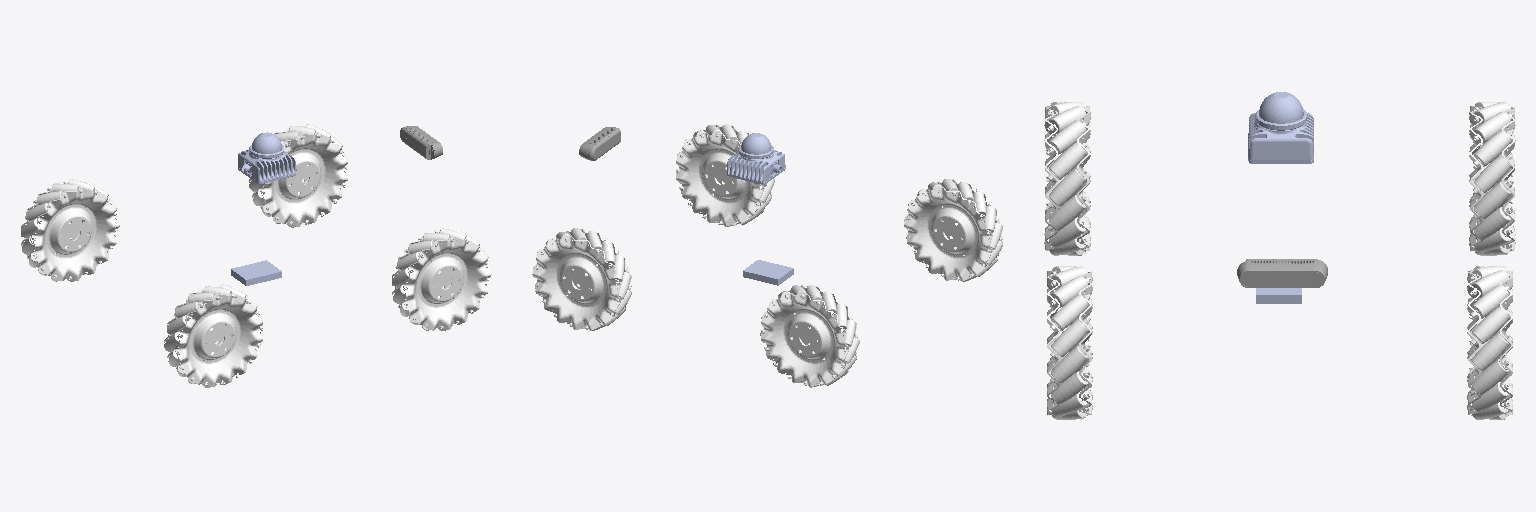
URDF robot description (auto_robot):
<?xml version="1.0" encoding="utf-8"?>
<!-- This URDF was automatically created by SolidWorks to URDF Exporter! Originally created by [author] ([email redacted]) 
     Commit Version: 1.6.0-4-g7f85cfe  Build Version: 1.6.7995.38578
     For more information, please see http://wiki.ros.org/sw_urdf_exporter -->
<robot
  name="auto_robot">
  <link
    name="base_link">
    <inertial>
      <origin
        xyz="2.8395E-05 0.00044016 0.070761"
        rpy="0 0 0" />
      <mass
        value="3.4984" />
      <inertia
        ixx="0.020694"
        ixy="2.8459E-05"
        ixz="-8.6816E-11"
        iyy="0.033952"
        iyz="5.3228E-08"
        izz="0.053792" />
    </inertial>
    <visual>
      <origin
        xyz="0 0 0"
        rpy="0 0 0" />
      <geometry>
        <mesh
          filename="package://auto_robot/meshes/base_link.STL" />
      </geometry>
      <material
        name="">
        <color
          rgba="0.79216 0.81961 0.93333 1" />
      </material>
    </visual>
    <collision>
      <origin
        xyz="0 0 0"
        rpy="0 0 0" />
      <geometry>
        <mesh
          filename="package://auto_robot/meshes/base_link.STL" />
      </geometry>
    </collision>
  </link>
  <link
    name="lidar_link">
    <inertial>
      <origin
        xyz="-0.0001996 -6.3239E-06 -0.038065"
        rpy="0 0 0" />
      <mass
        value="0.14189" />
      <inertia
        ixx="4.1798E-05"
        ixy="-5.6088E-09"
        ixz="3.0531E-07"
        iyy="4.5077E-05"
        iyz="-4.385E-10"
        izz="6.88E-05" />
    </inertial>
    <visual>
      <origin
        xyz="0 0 0"
        rpy="0 0 0" />
      <geometry>
        <mesh
          filename="package://auto_robot/meshes/lidar_link.STL" />
      </geometry>
      <material
        name="">
        <color
          rgba="0.79216 0.81961 0.93333 1" />
      </material>
    </visual>
    <collision>
      <origin
        xyz="0 0 0"
        rpy="0 0 0" />
      <geometry>
        <mesh
          filename="package://auto_robot/meshes/lidar_link.STL" />
      </geometry>
    </collision>
  </link>
  <joint
    name="lidar_joint"
    type="fixed">
    <origin
      xyz="0.018849 0.0022859 0.2251"
      rpy="0 0 0" />
    <parent
      link="base_link" />
    <child
      link="lidar_link" />
    <axis
      xyz="0 0 0" />
  </joint>
  <link
    name="imu_link">
    <inertial>
      <origin
        xyz="3.4694E-18 1.0408E-17 -0.005"
        rpy="0 0 0" />
      <mass
        value="0.027" />
      <inertia
        ixx="4.7813E-06"
        ixy="-1.6047E-21"
        ixz="5.294E-23"
        iyy="8.325E-06"
        iyz="2.412E-23"
        izz="1.2656E-05" />
    </inertial>
    <visual>
      <origin
        xyz="0 0 0"
        rpy="0 0 0" />
      <geometry>
        <mesh
          filename="package://auto_robot/meshes/imu_link.STL" />
      </geometry>
      <material
        name="">
        <color
          rgba="0.79216 0.81961 0.93333 1" />
      </material>
    </visual>
    <collision>
      <origin
        xyz="0 0 0"
        rpy="0 0 0" />
      <geometry>
        <mesh
          filename="package://auto_robot/meshes/imu_link.STL" />
      </geometry>
    </collision>
  </link>
  <joint
    name="imu_joint"
    type="fixed">
    <origin
      xyz="0 0 0.013"
      rpy="0 0 0" />
    <parent
      link="base_link" />
    <child
      link="imu_link" />
    <axis
      xyz="0 0 0" />
  </joint>
  <link
    name="camera_link">
    <inertial>
      <origin
        xyz="-0.013293 0.0014082 -2.3277E-05"
        rpy="0 0 0" />
      <mass
        value="0.036474" />
      <inertia
        ixx="2.3404E-05"
        ixy="2.1067E-07"
        ixz="1.0154E-08"
        iyy="3.5065E-06"
        iyz="1.7436E-09"
        izz="2.3613E-05" />
    </inertial>
    <visual>
      <origin
        xyz="0 0 0"
        rpy="0 0 0" />
      <geometry>
        <mesh
          filename="package://auto_robot/meshes/camera_link.STL" />
      </geometry>
      <material
        name="">
        <color
          rgba="0.70196 0.70196 0.70196 1" />
      </material>
    </visual>
    <collision>
      <origin
        xyz="0 0 0"
        rpy="0 0 0" />
      <geometry>
        <mesh
          filename="package://auto_robot/meshes/camera_link.STL" />
      </geometry>
    </collision>
  </link>
  <joint
    name="camera_joint"
    type="fixed">
    <origin
      xyz="0.29146 0.0033941 0.15158"
      rpy="0 0 0" />
    <parent
      link="base_link" />
    <child
      link="camera_link" />
    <axis
      xyz="0 0 0" />
  </joint>
  <link
    name="fl_wheel_link">
    <inertial>
      <origin
        xyz="-0.0013062 -0.014419 3.2463E-05"
        rpy="0 0 0" />
      <mass
        value="0.21481" />
      <inertia
        ixx="0.00010361"
        ixy="4.5758E-08"
        ixz="-3.0352E-07"
        iyy="0.00018482"
        iyz="1.2751E-07"
        izz="0.00010389" />
    </inertial>
    <visual>
      <origin
        xyz="0 0 0"
        rpy="0 0 0" />
      <geometry>
        <mesh
          filename="package://auto_robot/meshes/fl_wheel_link.STL" />
      </geometry>
      <material
        name="">
        <color
          rgba="1 1 1 1" />
      </material>
    </visual>
    <collision>
      <origin
        xyz="0 0 0"
        rpy="0 0 0" />
      <geometry>
        <mesh
          filename="package://auto_robot/meshes/fl_wheel_link.STL" />
      </geometry>
    </collision>
  </link>
  <joint
    name="fl_wheel_joint"
    type="continuous">
    <origin
      xyz="0.1915 0.22265 0.03599"
      rpy="0 0 0" />
    <parent
      link="base_link" />
    <child
      link="fl_wheel_link" />
    <axis
      xyz="2.0172E-05 -1 0" />
  </joint>
  <link
    name="rl_wheel_link">
    <inertial>
      <origin
        xyz="0.0013104 -0.014182 4.4596E-05"
        rpy="0 0 0" />
      <mass
        value="0.21481" />
      <inertia
        ixx="0.0001036"
        ixy="4.7955E-08"
        ixz="2.9864E-07"
        iyy="0.00018482"
        iyz="-1.2671E-07"
        izz="0.0001039" />
    </inertial>
    <visual>
      <origin
        xyz="0 0 0"
        rpy="0 0 0" />
      <geometry>
        <mesh
          filename="package://auto_robot/meshes/rl_wheel_link.STL" />
      </geometry>
      <material
        name="">
        <color
          rgba="1 1 1 1" />
      </material>
    </visual>
    <collision>
      <origin
        xyz="0 0 0"
        rpy="0 0 0" />
      <geometry>
        <mesh
          filename="package://auto_robot/meshes/rl_wheel_link.STL" />
      </geometry>
    </collision>
  </link>
  <joint
    name="rl_wheel_joint"
    type="continuous">
    <origin
      xyz="-0.1915 0.22464 0.036"
      rpy="0 0 0" />
    <parent
      link="base_link" />
    <child
      link="rl_wheel_link" />
    <axis
      xyz="0 1 0" />
  </joint>
  <link
    name="fr_wheel_link">
    <inertial>
      <origin
        xyz="0.00044882 0.014419 0.0012271"
        rpy="0 0 0" />
      <mass
        value="0.21481" />
      <inertia
        ixx="0.00010364"
        ixy="1.3487E-07"
        ixz="-3.1642E-07"
        iyy="0.00018482"
        iyz="-4.4754E-09"
        izz="0.00010386" />
    </inertial>
    <visual>
      <origin
        xyz="0 0 0"
        rpy="0 0 0" />
      <geometry>
        <mesh
          filename="package://auto_robot/meshes/fr_wheel_link.STL" />
      </geometry>
      <material
        name="">
        <color
          rgba="1 1 1 1" />
      </material>
    </visual>
    <collision>
      <origin
        xyz="0 0 0"
        rpy="0 0 0" />
      <geometry>
        <mesh
          filename="package://auto_robot/meshes/fr_wheel_link.STL" />
      </geometry>
    </collision>
  </link>
  <joint
    name="fr_wheel_joint"
    type="continuous">
    <origin
      xyz="0.19151 -0.22065 0.036001"
      rpy="0 0 0" />
    <parent
      link="base_link" />
    <child
      link="fr_wheel_link" />
    <axis
      xyz="0 1 0" />
  </joint>
  <link
    name="rr_wheel_link">
    <inertial>
      <origin
        xyz="0 0 0"
        rpy="0 0 0" />
      <mass
        value="0" />
      <inertia
        ixx="0"
        ixy="0"
        ixz="0"
        iyy="0"
        iyz="0"
        izz="0" />
    </inertial>
    <visual>
      <origin
        xyz="0 0 0"
        rpy="0 0 0" />
      <geometry>
        <mesh
          filename="package://auto_robot/meshes/rr_wheel_link.STL" />
      </geometry>
      <material
        name="">
        <color
          rgba="1 1 1 1" />
      </material>
    </visual>
    <collision>
      <origin
        xyz="0 0 0"
        rpy="0 0 0" />
      <geometry>
        <mesh
          filename="package://auto_robot/meshes/rr_wheel_link.STL" />
      </geometry>
    </collision>
  </link>
  <joint
    name="rr_wheel_joint"
    type="continuous">
    <origin
      xyz="-0.1915 -0.22264 0.036"
      rpy="0 0 0" />
    <parent
      link="base_link" />
    <child
      link="rr_wheel_link" />
    <axis
      xyz="0 -1 0" />
  </joint>
</robot>

--- Facts derived from the render (not from the file) ---
3 views of the same robot in one strip: view 1: azimuth 30°, elevation 25°; view 2: azimuth 150°, elevation 25°; view 3: azimuth 270°, elevation 25° (orthographic).
Model auto_robot with 8 links and 7 joints (4 continuous, 3 fixed), rooted at base_link, posed every joint at zero.
Links seen in each view (by area): view 1: rl_wheel_link, fr_wheel_link, rr_wheel_link, fl_wheel_link, lidar_link, camera_link, imu_link; view 2: rl_wheel_link, rr_wheel_link, fl_wheel_link, fr_wheel_link, lidar_link, camera_link, imu_link; view 3: rl_wheel_link, rr_wheel_link, fl_wheel_link, fr_wheel_link, lidar_link, camera_link, imu_link.
Link boxes in pixels (x1,y1,x2,y2): rl_wheel_link: (21,179,119,281); fr_wheel_link: (392,228,491,330); rr_wheel_link: (164,284,262,387); fl_wheel_link: (249,124,347,227); lidar_link: (238,132,295,183); camera_link: (400,126,442,159); imu_link: (231,260,281,285); rl_wheel_link: (760,285,859,387); rr_wheel_link: (904,179,1002,281); fl_wheel_link: (532,228,631,330); fr_wheel_link: (676,124,774,226); lidar_link: (727,133,785,184); camera_link: (579,127,620,160); imu_link: (743,260,793,285); rl_wheel_link: (1469,102,1515,255); rr_wheel_link: (1044,102,1090,255); fl_wheel_link: (1467,266,1512,419); fr_wheel_link: (1047,266,1092,419); lidar_link: (1248,92,1313,163); camera_link: (1237,259,1327,287); imu_link: (1256,288,1301,303).
Size in the robot's own frame: 0.5591 by 0.4642 by 0.2652 metres.
Meshes: 8 distinct files referenced, 7 mesh visuals loaded (7 binary STL); not drawn: 1 (reference not matched to a file when rendering).